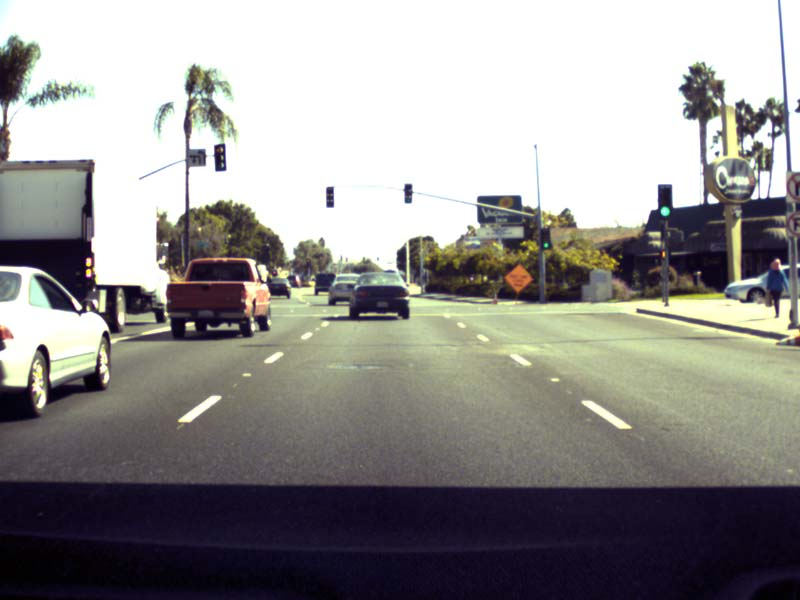Green: (656, 184, 672, 220), (540, 228, 551, 249)
